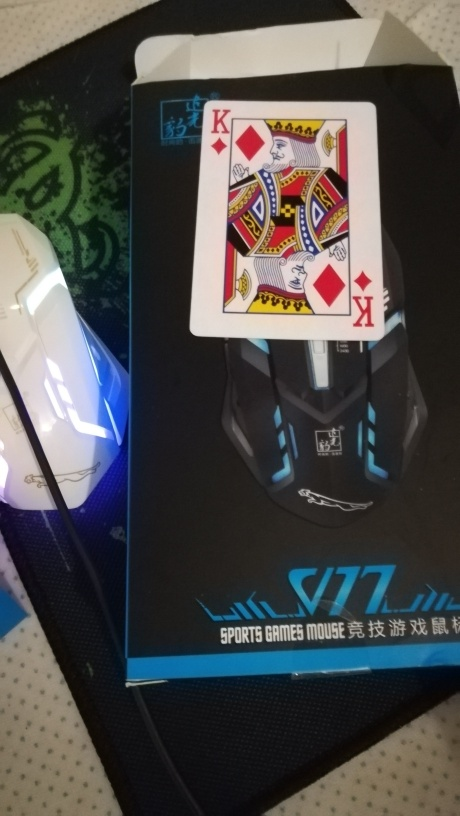fk k: (188, 92, 386, 344)
